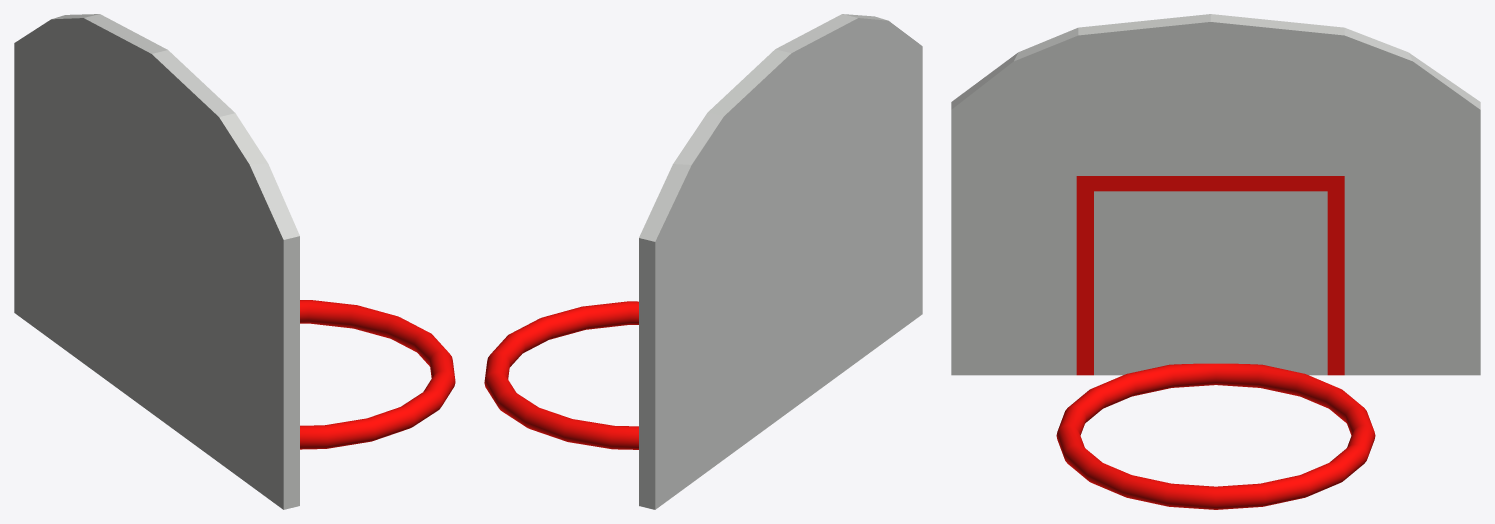
The model's file is bb_hoop.fbx.
3 renders of one model, left to right at view 1: azimuth 30°, elevation 25°; view 2: azimuth 150°, elevation 25°; view 3: azimuth 270°, elevation 25°, orthographic.
Parts seen in each view (by area): view 1: Cube, Torus; view 2: Cube, Torus; view 3: Cube, Torus.
Part boxes in pixels (bbox=[...]): Cube: bbox=[14, 14, 299, 509]; Torus: bbox=[300, 300, 455, 449]; Cube: bbox=[639, 14, 922, 509]; Torus: bbox=[484, 301, 638, 449]; Cube: bbox=[951, 14, 1480, 375]; Torus: bbox=[1056, 363, 1375, 509].
Bounding box in the file's own units: 305 × 376 × 498.
